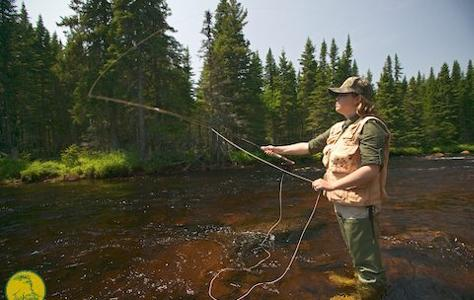person: (262, 78, 392, 282)
